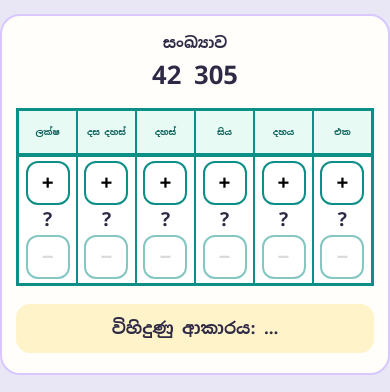
Scenario: Number World expanded place-value table › clears a previous answer when a new number is mounted
What coordinates should you click on to do the following:
click the 1st button with class "expanded-step-button--increment"
I would click on:
 (48, 183)
Its box is [26,161,70,205].
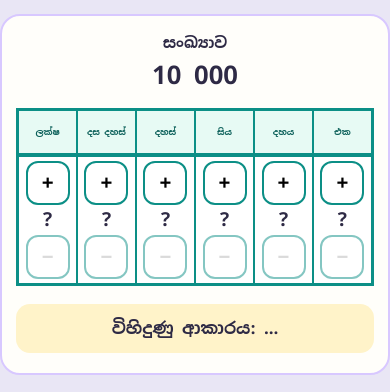
Check: the text "10 000" is shown, box [152,58,238,92]
